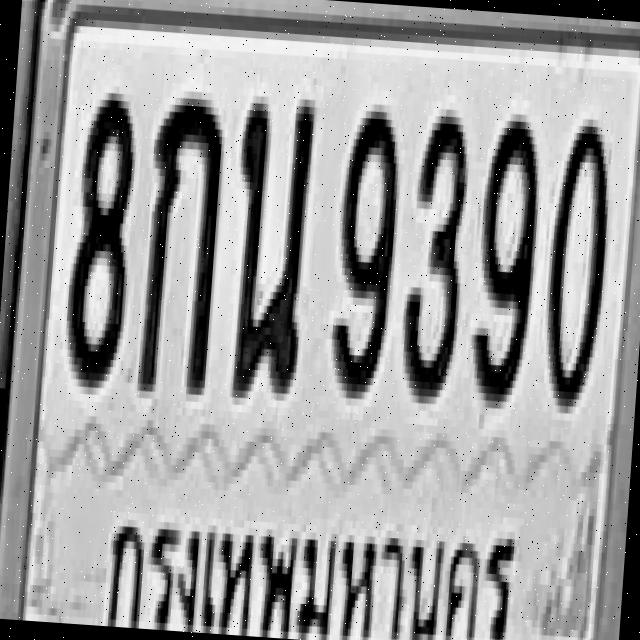0: (539, 113, 613, 411)
10GorGai: (136, 88, 226, 394)
3: (398, 107, 472, 405)
34NorNu: (222, 88, 316, 401)
8: (60, 84, 138, 388)
9: (328, 102, 402, 400), (468, 112, 542, 410)
Bangkok: (98, 478, 525, 640)
